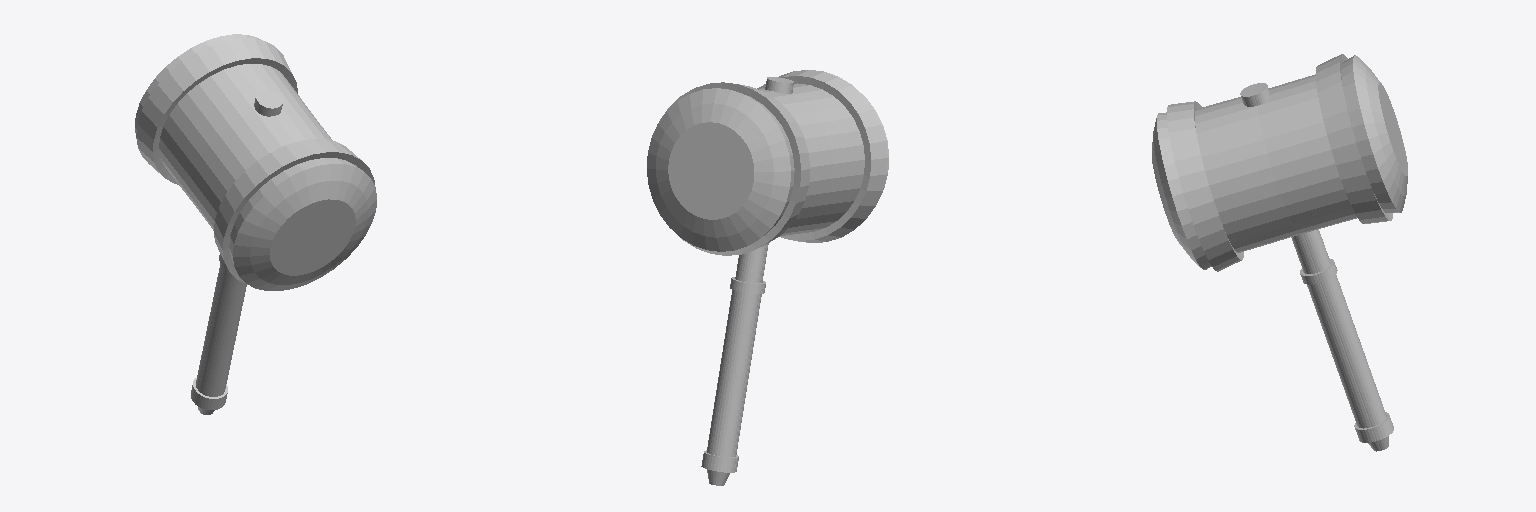
The model's file is Hammer.obj.
The picture shows the model from 3 angles: view 1: azimuth 30°, elevation 25°; view 2: azimuth 150°, elevation 25°; view 3: azimuth 270°, elevation 25°; orthographic projection.
Visible parts, largest first — view 1: Cylinder; view 2: Cylinder; view 3: Cylinder.
Boxes of the visible parts, <box> form: Cylinder: <box>135,34,376,414</box>; Cylinder: <box>647,70,888,485</box>; Cylinder: <box>1152,54,1407,451</box>.
Bounding box in the file's own units: 2.03 × 4.99 × 3.